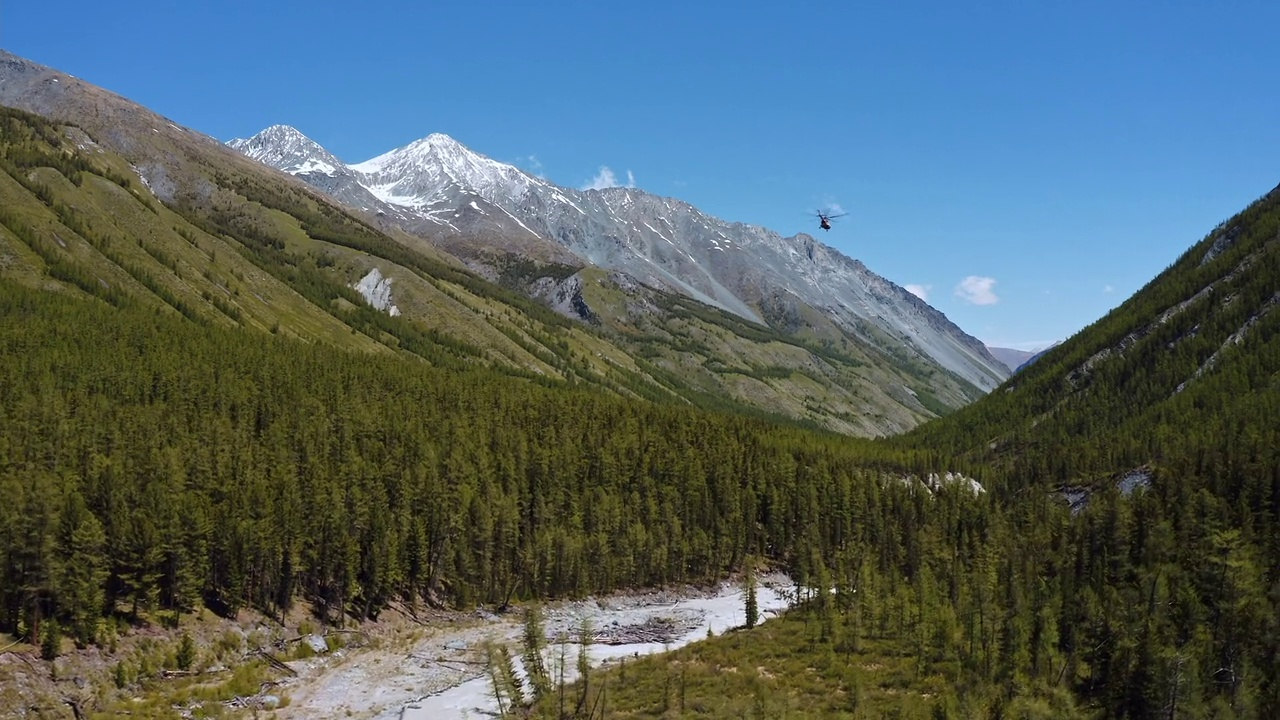heli: (806, 205, 847, 232)
